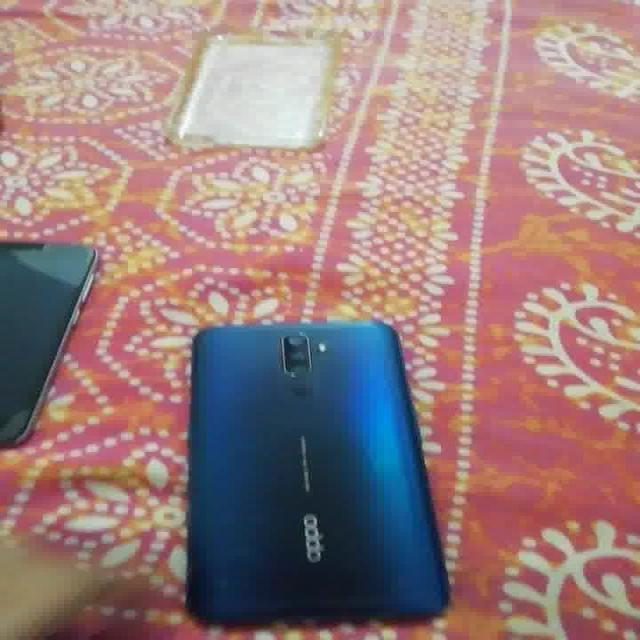phone: (182, 311, 455, 621), (0, 236, 97, 448)
